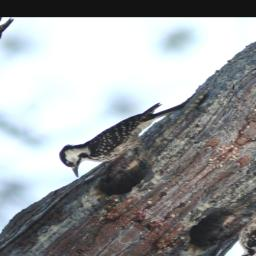Woodpecker: (44, 78, 206, 198)
